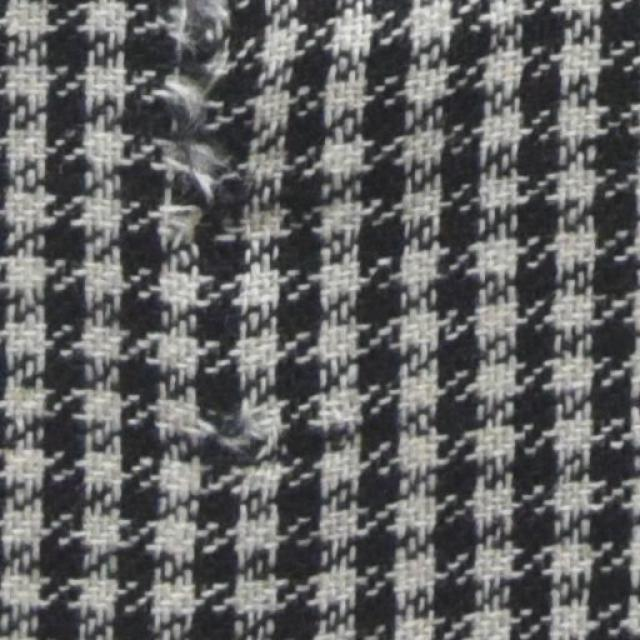Snag: (151, 1, 243, 245)
